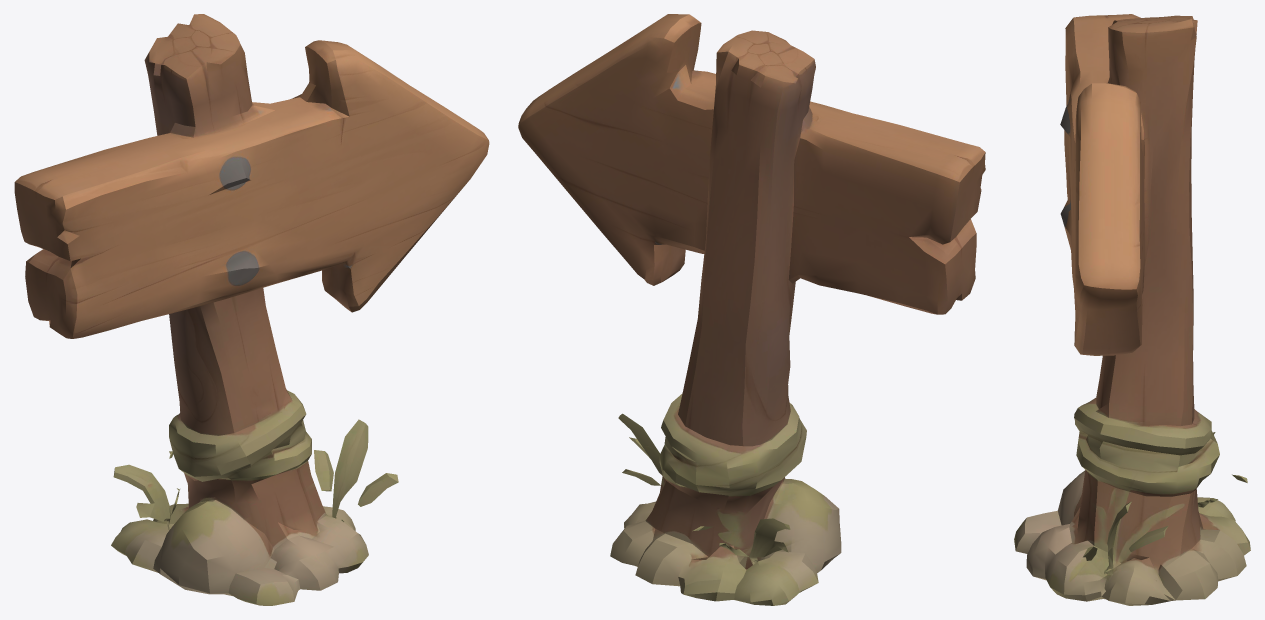
The model's file is Manor_WoodenSignpost_01.glb.
The picture shows the model from 3 angles, left to right: view 1: azimuth 30°, elevation 25°; view 2: azimuth 150°, elevation 25°; view 3: azimuth 270°, elevation 25°; orthographic projection.
Visible parts, largest first — view 1: Manor_WoodenSignpost_01.001; view 2: Manor_WoodenSignpost_01.001; view 3: Manor_WoodenSignpost_01.001.
Boxes of the visible parts, x1,y1,x2,y2 form: Manor_WoodenSignpost_01.001: (14,14,489,605); Manor_WoodenSignpost_01.001: (518,14,985,605); Manor_WoodenSignpost_01.001: (1014,14,1250,605).
Bounding box in the file's own units: 0.8907 × 1 × 0.4062.
1 material, 1 textured.
